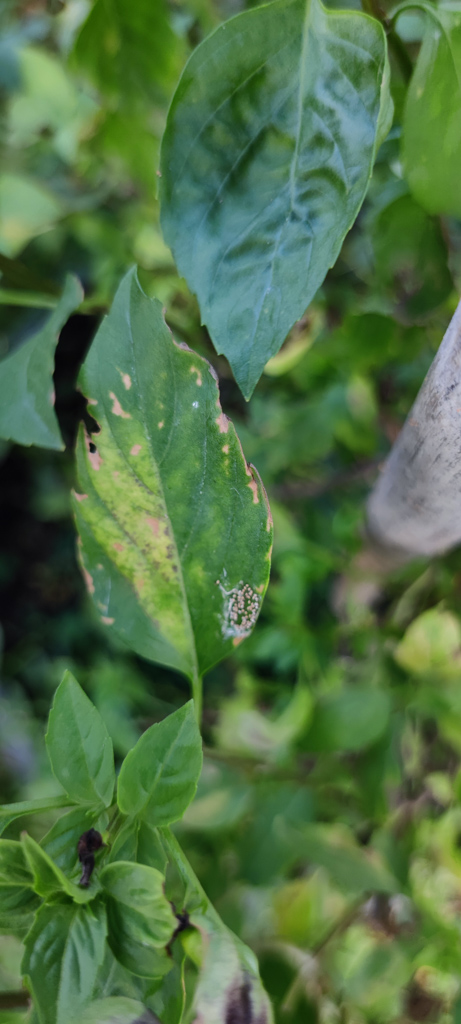Pepper yellow leaf: (85, 378, 222, 636)
